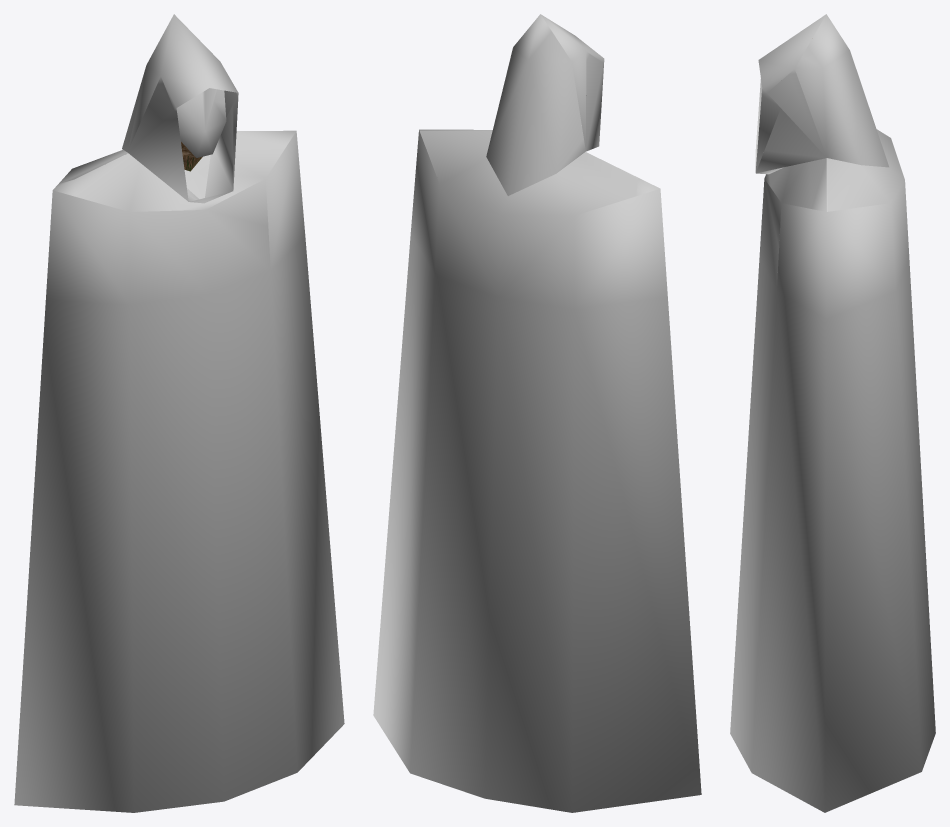
Rendered from statue.glb.
The picture shows the model from 3 angles, left to right: view 1: azimuth 30°, elevation 25°; view 2: azimuth 150°, elevation 25°; view 3: azimuth 270°, elevation 25°; orthographic projection. The views are drawn at different scales.
Parts seen in each view (by area): view 1: part0; view 2: part0; view 3: part0.
Boxes of the visible parts, left/top/right/bottom form: part0: left=14, top=14, right=344, bottom=812; part0: left=373, top=14, right=701, bottom=812; part0: left=730, top=14, right=935, bottom=812.
Size of the model in its own units: 2.62 by 5.68 by 1.47.
4 materials, 1 textured.
